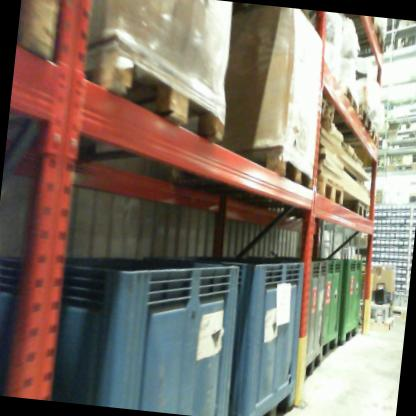pallet: (41, 31, 244, 178), (220, 141, 314, 200), (14, 0, 69, 72), (331, 18, 391, 67), (324, 95, 378, 138), (318, 126, 383, 155), (311, 87, 340, 125), (334, 80, 365, 115), (310, 178, 348, 206), (363, 310, 396, 335), (343, 193, 374, 219), (388, 301, 406, 320)
